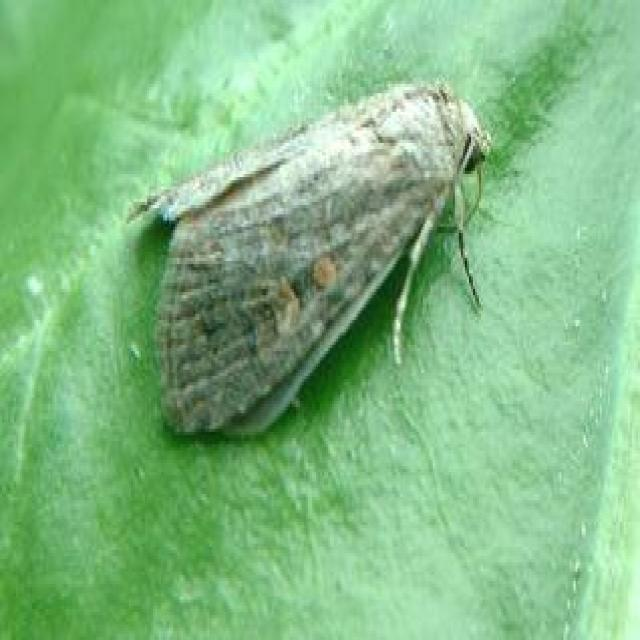BeetArmyWorm-Adult-: (132, 61, 487, 452)
